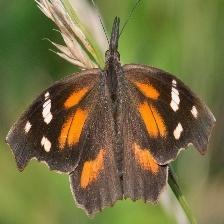butterfly: (6, 23, 216, 218)
